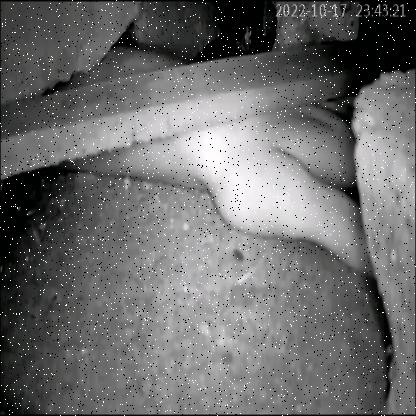hand: (123, 39, 397, 285)
